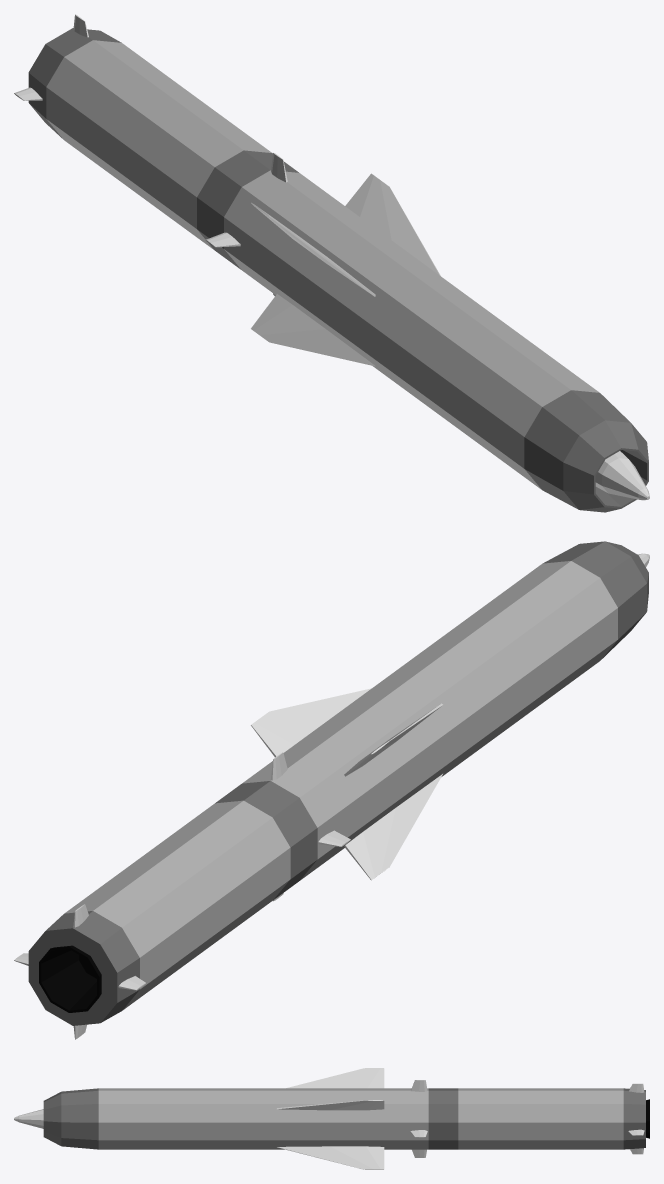
The model's file is SM_missile06.fbx.
3 views of the same model, one above another, from view 1: azimuth 30°, elevation 25°; view 2: azimuth 150°, elevation 25°; view 3: azimuth 270°, elevation 25° (orthographic). The views are drawn at different scales.
Visible parts, largest first — view 1: Cylinder; view 2: Cylinder; view 3: Cylinder.
Part boxes in pixels (x1,y1,x2,y2): Cylinder: [14, 14, 649, 512]; Cylinder: [14, 541, 649, 1039]; Cylinder: [14, 1068, 649, 1169].
Size of the model in its own units: 108 by 108 by 797.
